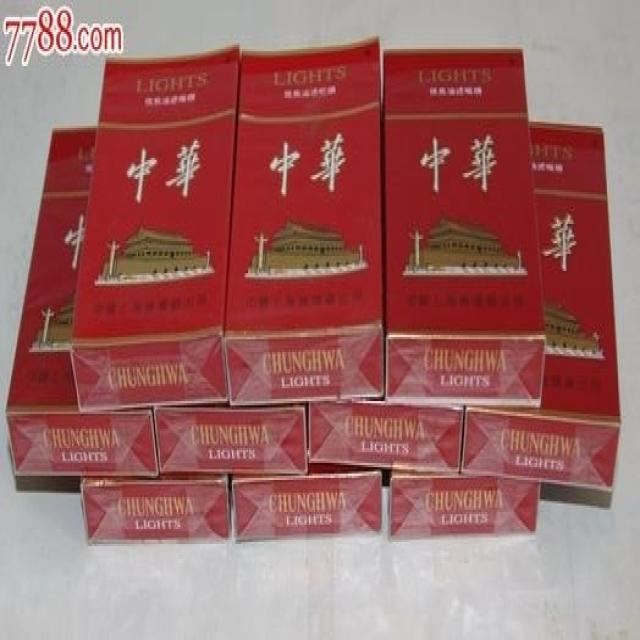box: (70, 45, 241, 414), (222, 38, 385, 405), (462, 122, 620, 493), (385, 49, 545, 407), (5, 126, 158, 478), (233, 463, 382, 540), (153, 401, 308, 474), (309, 401, 463, 474), (81, 471, 231, 544), (391, 471, 540, 544)
